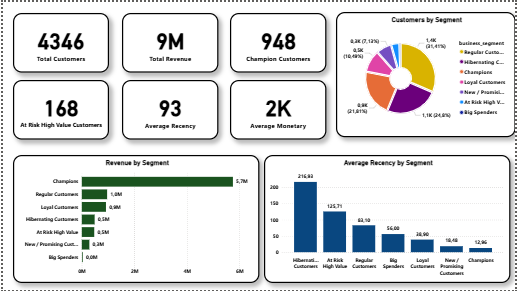

This screenshot's page, from the dashboard's own definition file:
{"tool":"powerbi","page":{"name":"Executive Overview","canvas":[1280,720],"ordinal":0},"visuals":[{"type":"card","fields":{"Values":["public customer_business_segments.Total Customers"]},"box":[24.3,28.6,240,148.6],"z":0},{"type":"card","fields":{"Values":["public customer_business_segments.At Risk High Value Customers"]},"box":[24.3,195.7,240,148.6],"z":1},{"type":"card","fields":{"Values":["public customer_business_segments.Total Revenue"]},"box":[297.1,27.1,241.4,148.6],"z":2},{"type":"card","fields":{"Values":["public customer_business_segments.Champion Customers"]},"box":[568.6,27.1,241.4,148.6],"z":3},{"type":"card","fields":{"Values":["public customer_business_segments.Average Recency"]},"box":[297.1,195.7,241.4,148.6],"z":4},{"type":"card","fields":{"Values":["public customer_business_segments.Average Monetary"]},"box":[567.1,195.7,241.4,148.6],"z":5},{"type":"clusteredBarChart","title":"Revenue by Segment","fields":{"Category":["public vw_country_segment_summary.business_segment"],"Y":["Sum(public vw_country_segment_summary.total_revenue)"]},"box":[24.3,382.9,615.7,320],"z":6},{"type":"donutChart","title":"Customers by Segment","fields":{"Category":["public vw_country_segment_summary.business_segment"],"Y":["Sum(public vw_country_segment_summary.customers)"]},"box":[831.4,25.7,448.6,312.9],"z":7},{"type":"columnChart","title":"Average Recency by Segment","fields":{"Category":["public customer_business_segments.business_segment"],"Y":["Avg(public customer_business_segments.recency)"]},"box":[652.9,382.9,615.7,320],"z":8}]}

Visuals, with their boxes in screenshot pixels (x1, y1, x2, y2), scaled from the page's 1280x720 canvas onto the 517x291 screenshot:
card - public customer_business_segments.Total Customers: {"x1": 10, "y1": 12, "x2": 107, "y2": 72}
card - public customer_business_segments.At Risk High Value Customers: {"x1": 10, "y1": 79, "x2": 107, "y2": 139}
card - public customer_business_segments.Total Revenue: {"x1": 120, "y1": 11, "x2": 218, "y2": 71}
card - public customer_business_segments.Champion Customers: {"x1": 230, "y1": 11, "x2": 327, "y2": 71}
card - public customer_business_segments.Average Recency: {"x1": 120, "y1": 79, "x2": 218, "y2": 139}
card - public customer_business_segments.Average Monetary: {"x1": 229, "y1": 79, "x2": 327, "y2": 139}
"Revenue by Segment" clusteredBarChart: {"x1": 10, "y1": 155, "x2": 258, "y2": 284}
"Customers by Segment" donutChart: {"x1": 336, "y1": 10, "x2": 516, "y2": 137}
"Average Recency by Segment" columnChart: {"x1": 264, "y1": 155, "x2": 512, "y2": 284}
